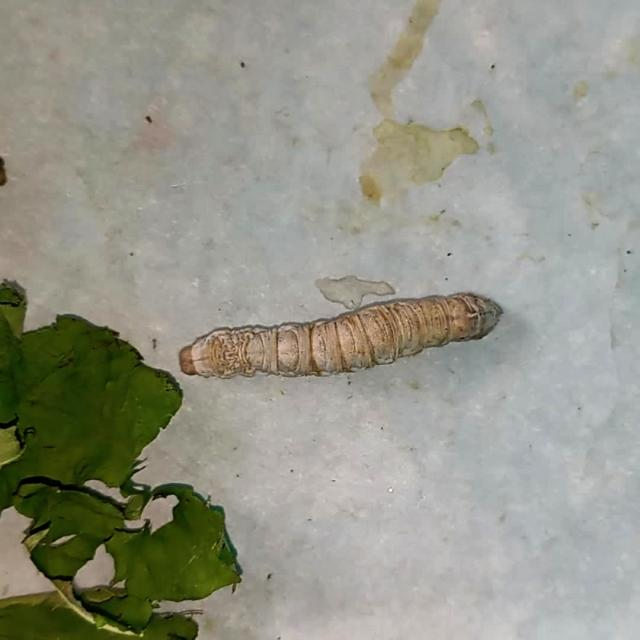Grasserie: (158, 245, 516, 411)
